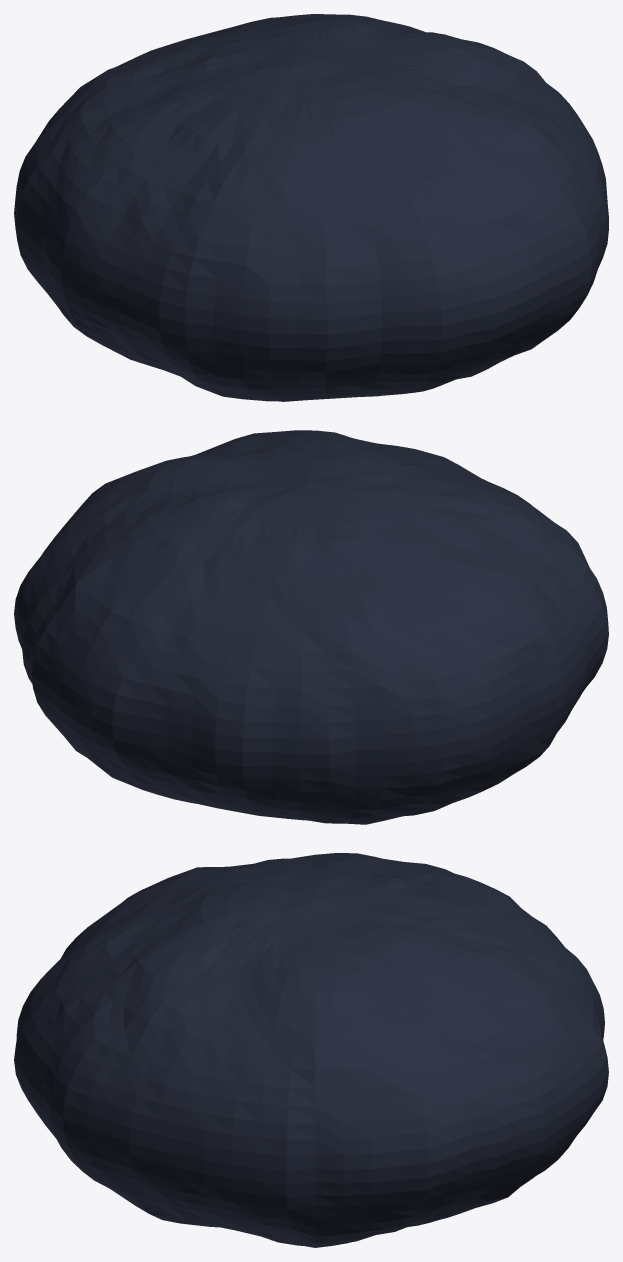
The model's file is ruins.glb.
The picture shows the model from 3 angles, top to bottom: view 1: azimuth 30°, elevation 25°; view 2: azimuth 150°, elevation 25°; view 3: azimuth 270°, elevation 25°; orthographic projection.
Visible parts, largest first — view 1: ruins_-17_-24, ruins_-16_-23, ruins_-16_-24, ruins_-17_-25, ruins_-18_-25, ruins_-17_-23, ruins_-15_-24, ruins_-16_-25, ruins_-18_-24, ruins_-15_-23, ruins_-15_-25, ruins_-17_-26 (+2 smaller); view 2: ruins_-17_-26, ruins_-16_-26, ruins_-17_-25, ruins_-18_-25, ruins_-15_-26, ruins_-16_-25, ruins_-16_-27, ruins_-17_-24, ruins_-18_-26, ruins_-15_-25, ruins_-16_-24, ruins_-18_-24 (+2 smaller); view 3: ruins_-15_-24, ruins_-15_-25, ruins_-15_-26, ruins_-16_-26, ruins_-16_-25, ruins_-16_-24, ruins_-14_-25, ruins_-16_-23, ruins_-17_-25, ruins_-15_-23, ruins_-17_-24, ruins_-17_-26 (+2 smaller).
Boxes of the visible parts, bbox=[...] form: ruins_-17_-24: bbox=[142, 102, 375, 401]; ruins_-16_-23: bbox=[372, 198, 554, 392]; ruins_-16_-24: bbox=[295, 76, 543, 396]; ruins_-17_-25: bbox=[52, 54, 294, 369]; ruins_-18_-25: bbox=[16, 139, 150, 363]; ruins_-17_-23: bbox=[269, 228, 411, 385]; ruins_-15_-24: bbox=[431, 76, 608, 349]; ruins_-16_-25: bbox=[197, 17, 453, 103]; ruins_-18_-24: bbox=[97, 203, 214, 372]; ruins_-15_-23: bbox=[526, 197, 598, 346]; ruins_-15_-25: bbox=[355, 16, 585, 127]; ruins_-17_-26: bbox=[35, 46, 201, 154]; ruins_-17_-26: bbox=[217, 561, 471, 824]; ruins_-16_-26: bbox=[74, 513, 318, 815]; ruins_-17_-25: bbox=[317, 481, 545, 810]; ruins_-18_-25: bbox=[462, 573, 585, 796]; ruins_-15_-26: bbox=[14, 518, 154, 767]; ruins_-16_-25: bbox=[170, 449, 395, 560]; ruins_-16_-27: bbox=[74, 678, 218, 785]; ruins_-17_-24: bbox=[394, 470, 589, 577]; ruins_-18_-26: bbox=[413, 649, 493, 795]; ruins_-15_-25: bbox=[30, 454, 250, 569]; ruins_-16_-24: bbox=[251, 430, 479, 481]; ruins_-18_-24: bbox=[546, 565, 608, 696]; ruins_-15_-24: bbox=[65, 953, 263, 1233]; ruins_-15_-25: bbox=[234, 954, 434, 1247]; ruins_-15_-26: bbox=[409, 968, 589, 1222]; ruins_-16_-26: bbox=[411, 890, 602, 1169]; ruins_-16_-25: bbox=[235, 873, 437, 970]; ruins_-16_-24: bbox=[69, 882, 266, 1029]; ruins_-14_-25: bbox=[258, 1121, 400, 1209]; ruins_-16_-23: bbox=[14, 938, 86, 1137]; ruins_-17_-25: bbox=[237, 853, 431, 890]; ruins_-15_-23: bbox=[41, 1020, 93, 1170]; ruins_-17_-24: bbox=[74, 864, 261, 946]; ruins_-17_-26: bbox=[414, 864, 593, 982].
Size of the model in its own units: 273 by 151 by 277.
